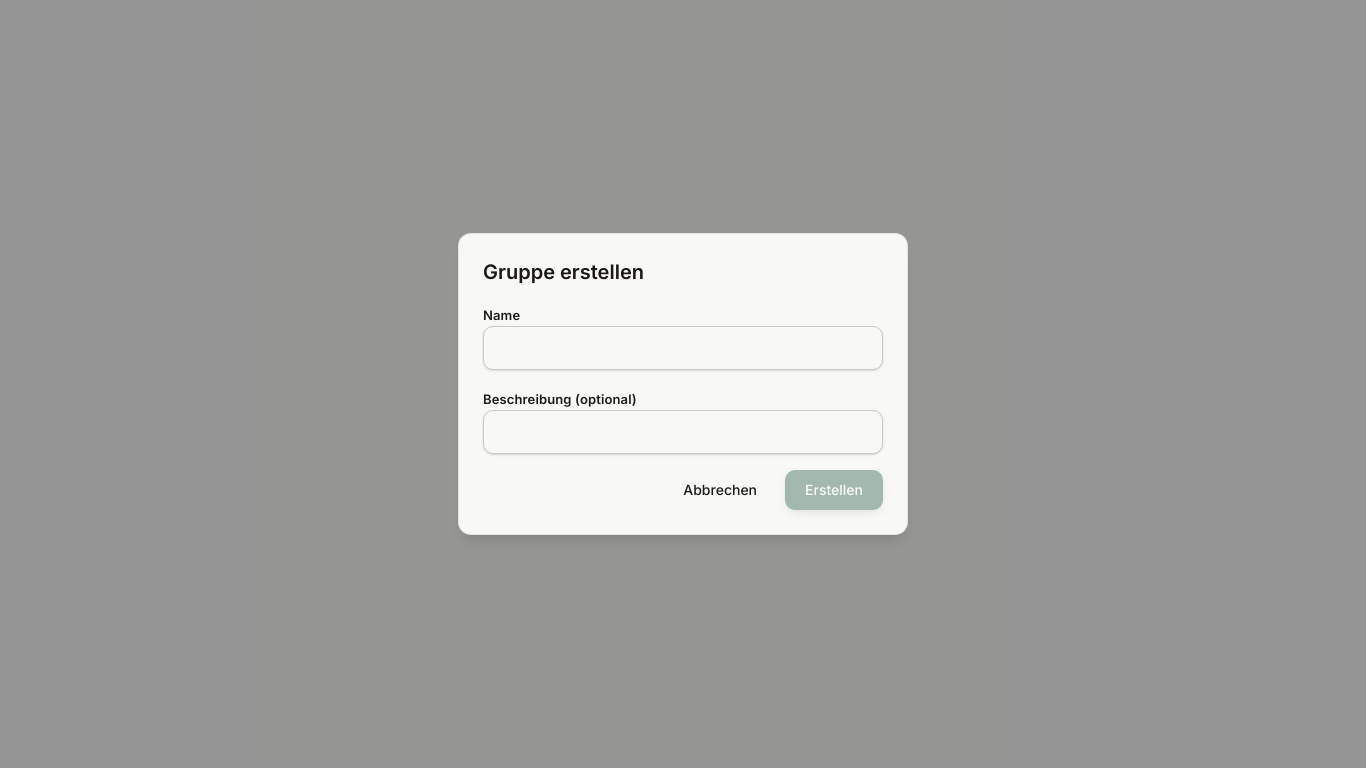
Test: <CreateGroupDialog /> › surfaces the translated errors:<code> copy on 4xx
Type "X" into the field labelled "Name" at (683, 348), box [483,326,883,370]
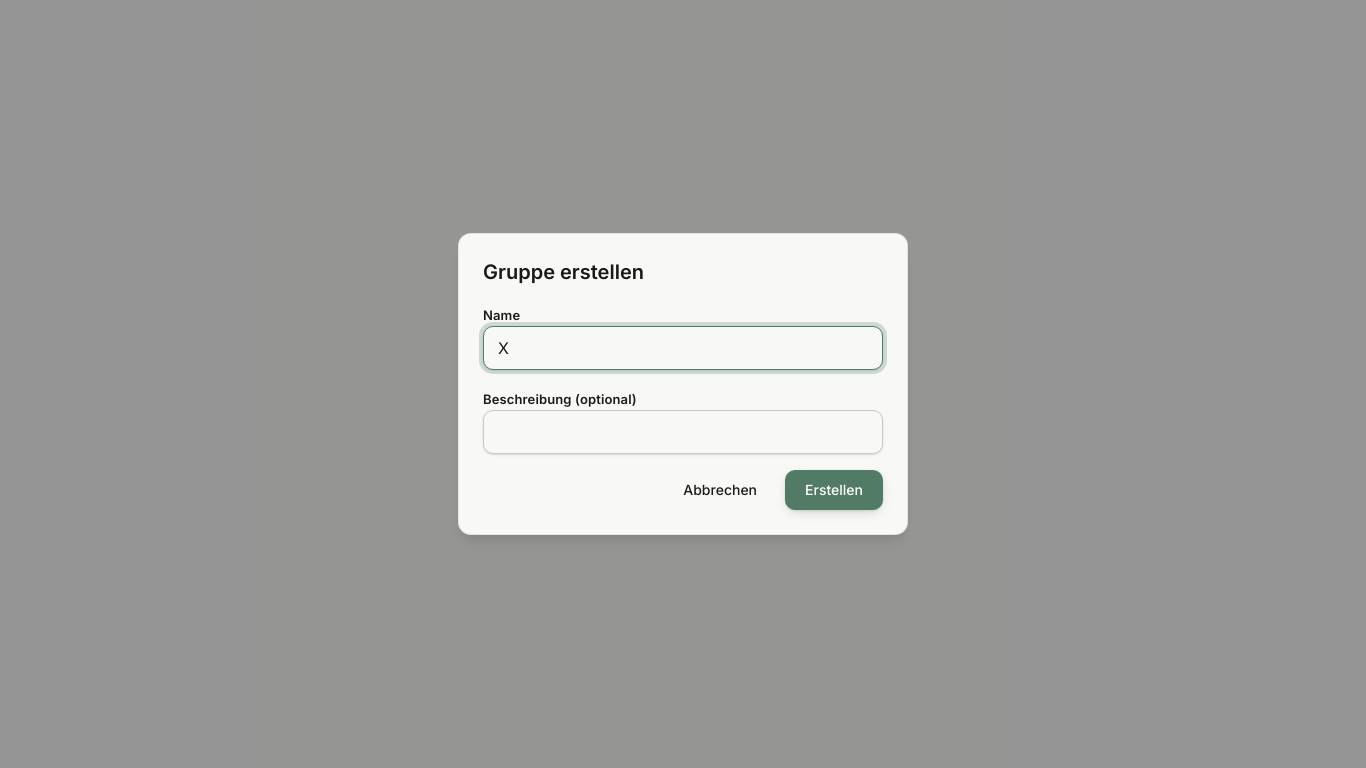
Click the button "Erstellen" at (834, 490), box [785,470,883,510]
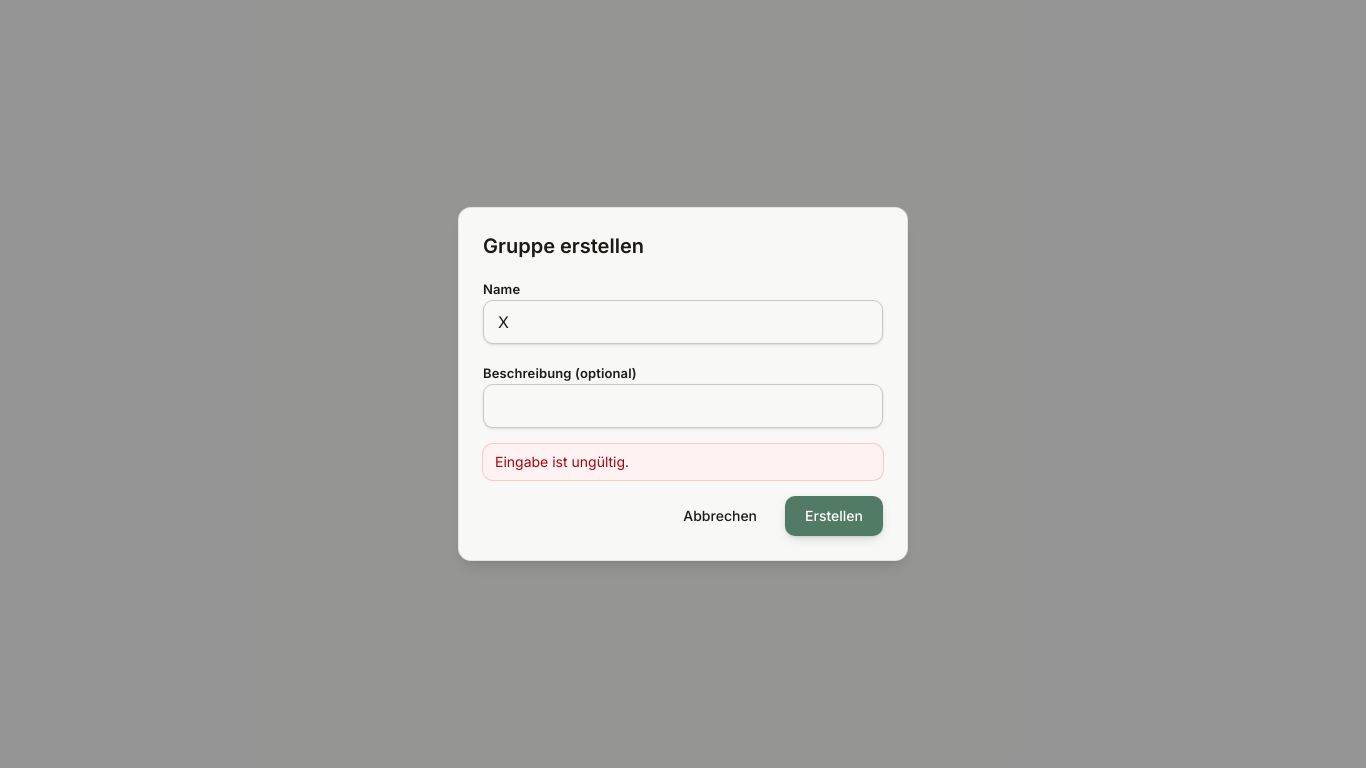
Check: the message does not show "Name is too long", box [483,444,883,480]
Check: the message reads "Eingabe ist ungültig.", box [495,453,629,470]
